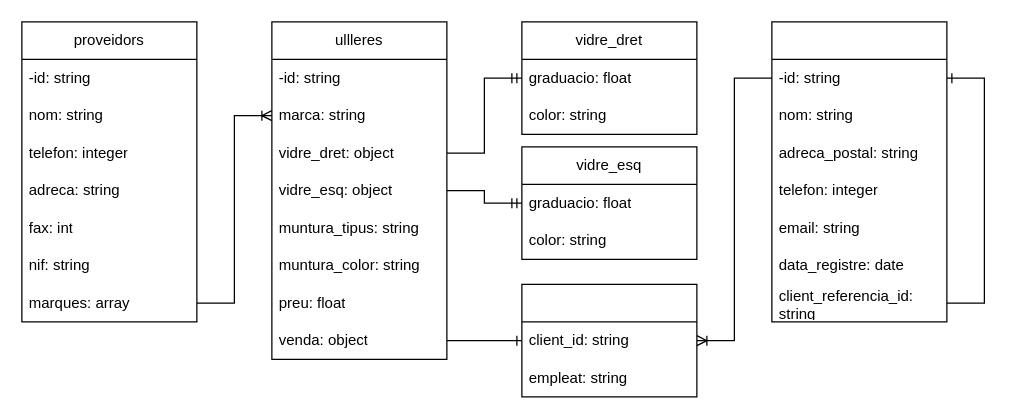
Some shapes in this 1016 by 419 pixel diagram are drawn without their labels. The shapes that lost their labels are listed below. From the top down, each one's box as (x1, y1, x2, y2) in pixels, then its label:
(771, 21, 947, 322): clients
(521, 283, 697, 397): venda
